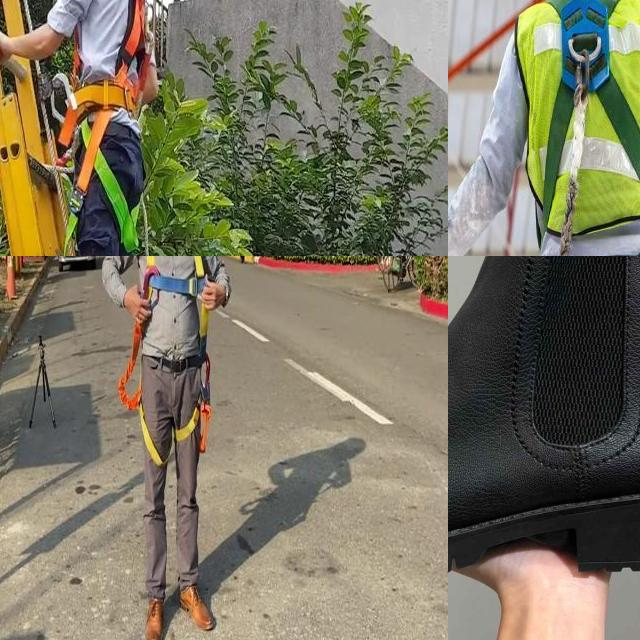Harness: (531, 0, 640, 256), (59, 0, 151, 256), (118, 324, 167, 466), (175, 305, 212, 454), (142, 256, 207, 298)
Sandals: (448, 256, 640, 596)
